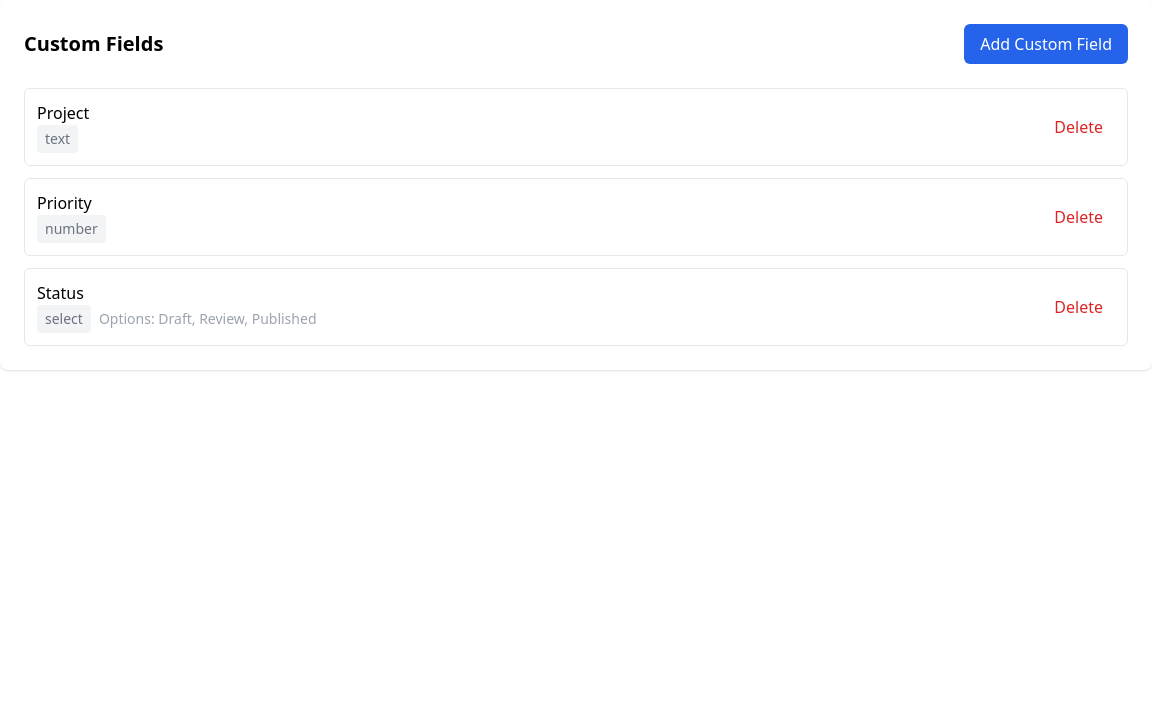
Test: FieldManager › opens add field dialog when Add Custom Field button is clicked
Click the button "Add Custom Field" at (1046, 44), box [964, 24, 1128, 64]
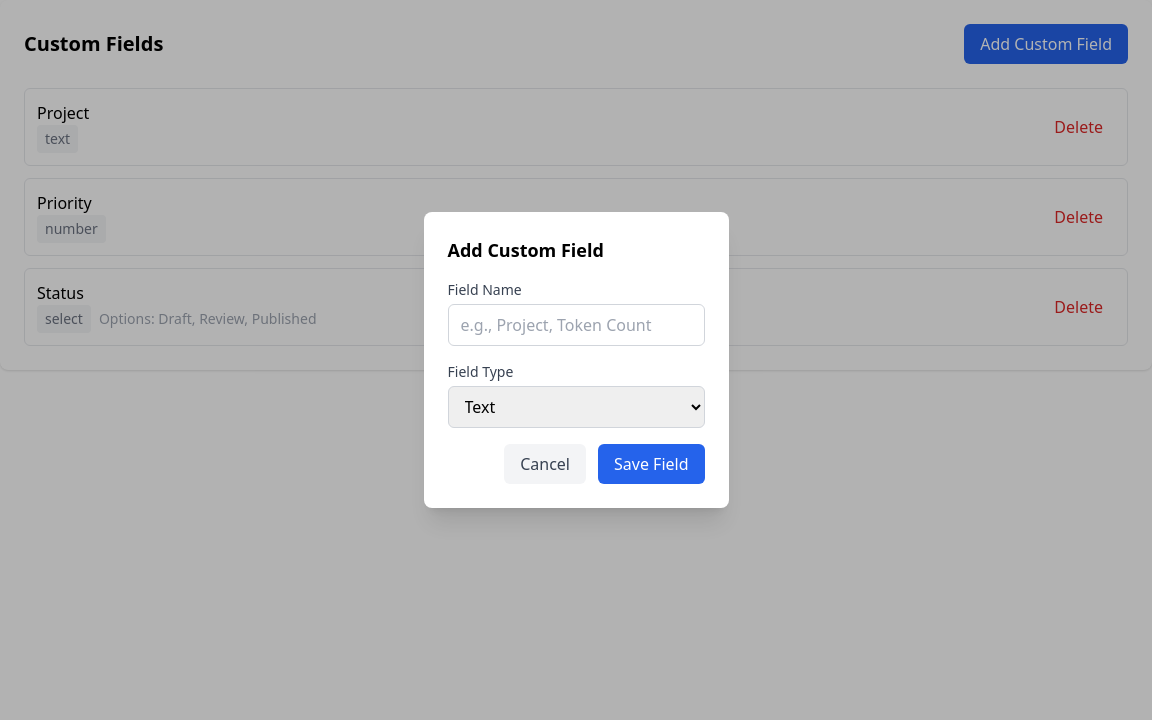
Result: the field labelled "Field Name" is shown at [448, 304, 704, 346]
Result: the dropdown labelled "Field Type" is shown at [448, 386, 704, 428]
